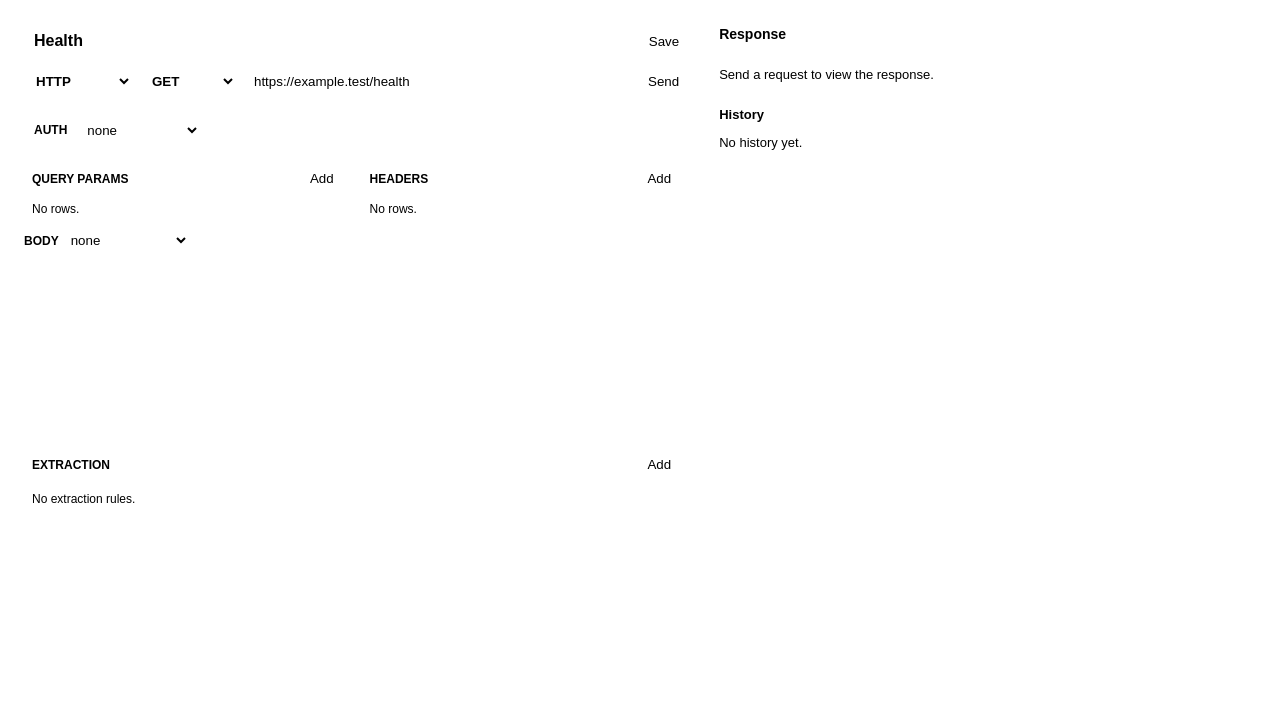
Test: RequesterApp › shows execution errors in the response panel
Click the button "Send" at x=664, y=82, box x1=640 y1=70 x2=687 y2=93
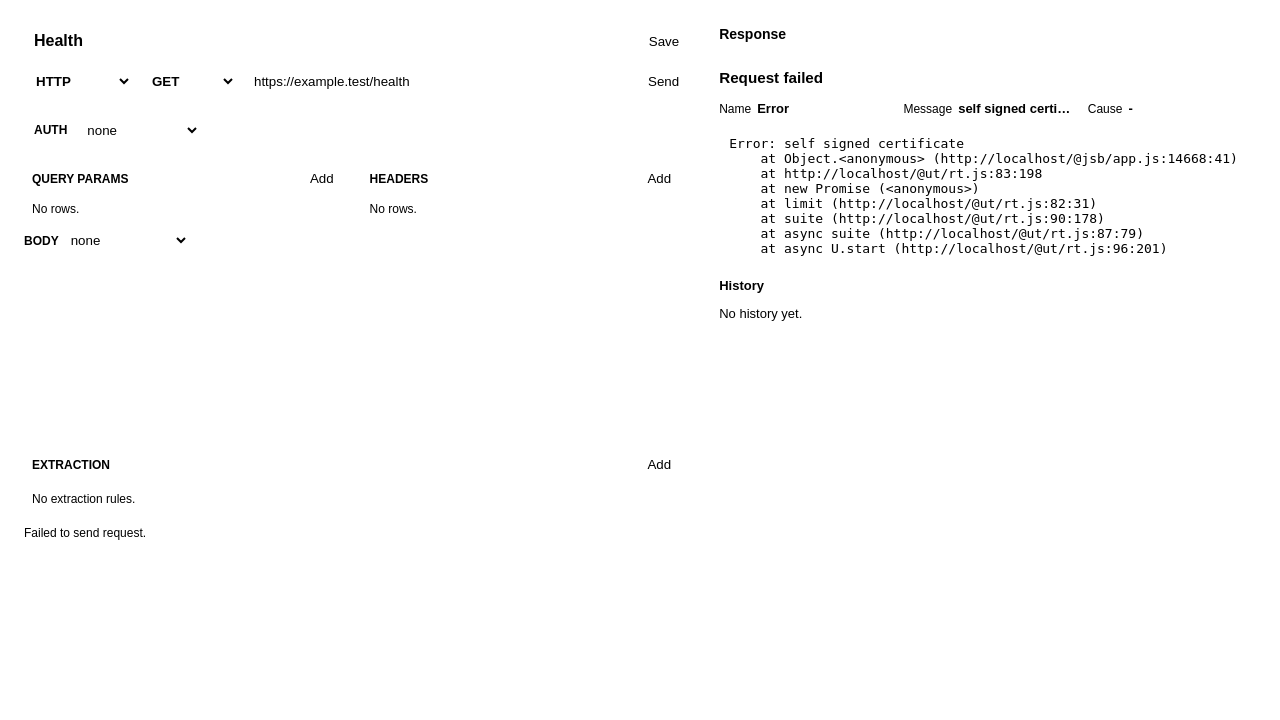
expect the heading "Request failed" is shown: met, box x1=719 y1=69 x2=823 y2=86
expect the text "self signed certificate" is shown: met, box x1=958 y1=101 x2=1072 y2=116
expect the element named "Response error details" is shown: met, box x1=719 y1=54 x2=1256 y2=266
